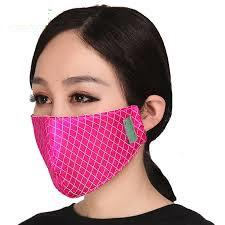OK: (34, 74, 162, 196)
